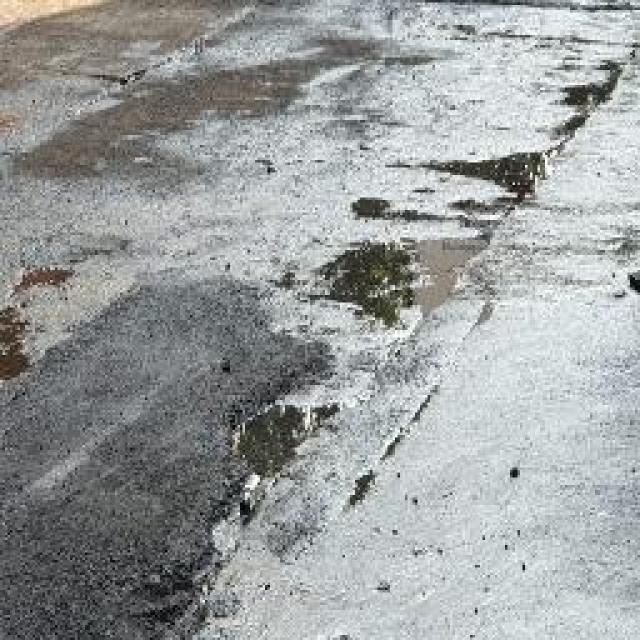waterlogging: (375, 220, 503, 334)
